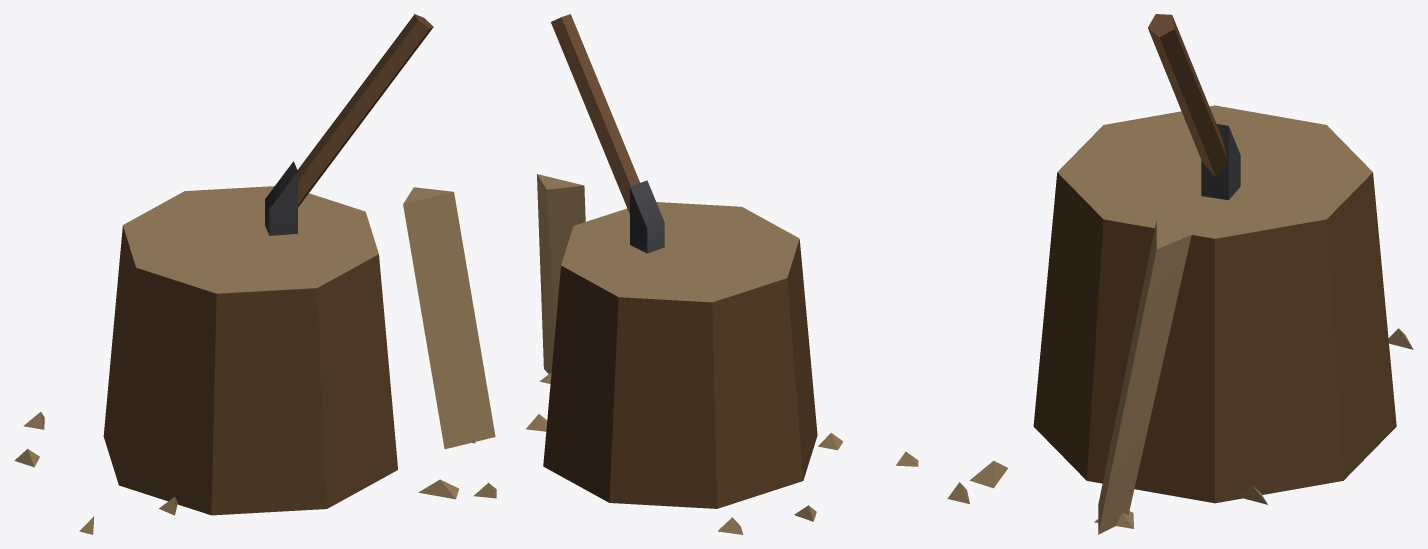
The model's file is ChoppingBlock.fbx.
3 renders of one model, left to right at view 1: azimuth 30°, elevation 25°; view 2: azimuth 150°, elevation 25°; view 3: azimuth 270°, elevation 25°, orthographic. The views are drawn at different scales.
Visible parts, largest first — view 1: ChoppingBlock; view 2: ChoppingBlock; view 3: ChoppingBlock.
Part boxes in pixels (x1=…): ChoppingBlock: x1=14, y1=14, x2=496, y2=534; ChoppingBlock: x1=526, y1=14, x2=918, y2=534; ChoppingBlock: x1=947, y1=14, x2=1413, y2=534.
Size of the model in its own units: 0.9622 by 0.9367 by 0.7974.
